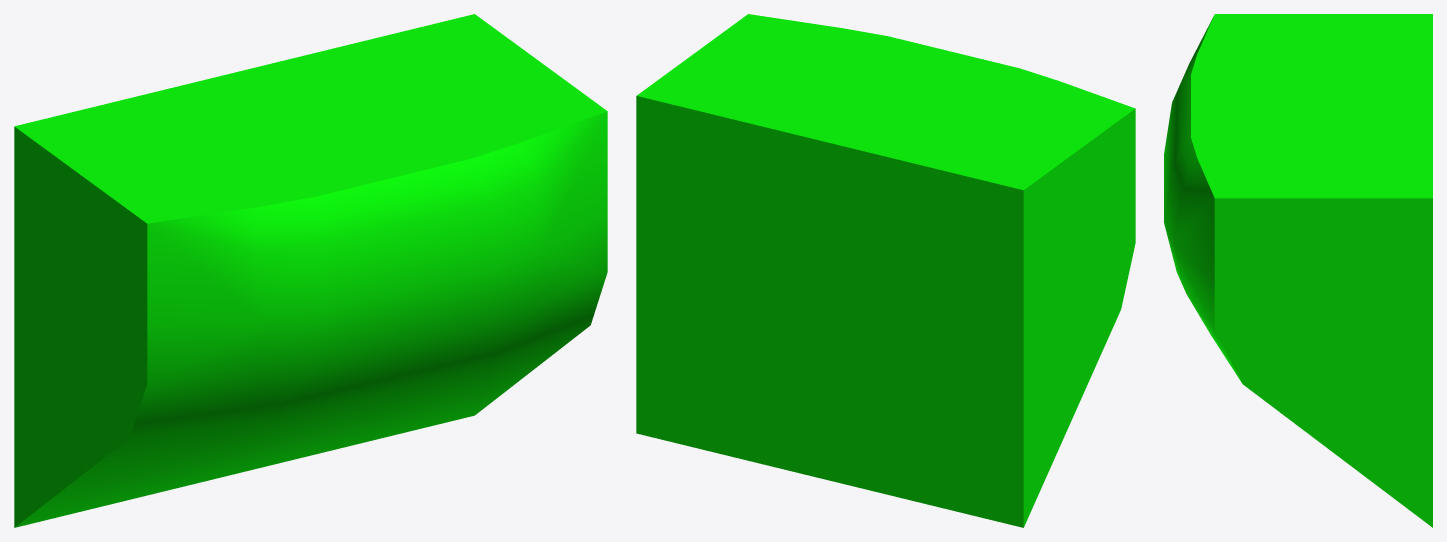
Rendered from SM_GrassGround_16.FBX.
3 views of the same model, side by side, from view 1: azimuth 30°, elevation 25°; view 2: azimuth 150°, elevation 25°; view 3: azimuth 270°, elevation 25° (orthographic). The views are drawn at different scales.
Parts seen in each view (by area): view 1: 16; view 2: 16; view 3: 16.
Part boxes in pixels (x1=…): 16: x1=14, y1=14, x2=607, y2=527; 16: x1=636, y1=14, x2=1135, y2=527; 16: x1=1164, y1=14, x2=1432, y2=527.
Size of the model in its own units: 49.95 by 41.62 by 30.79.
